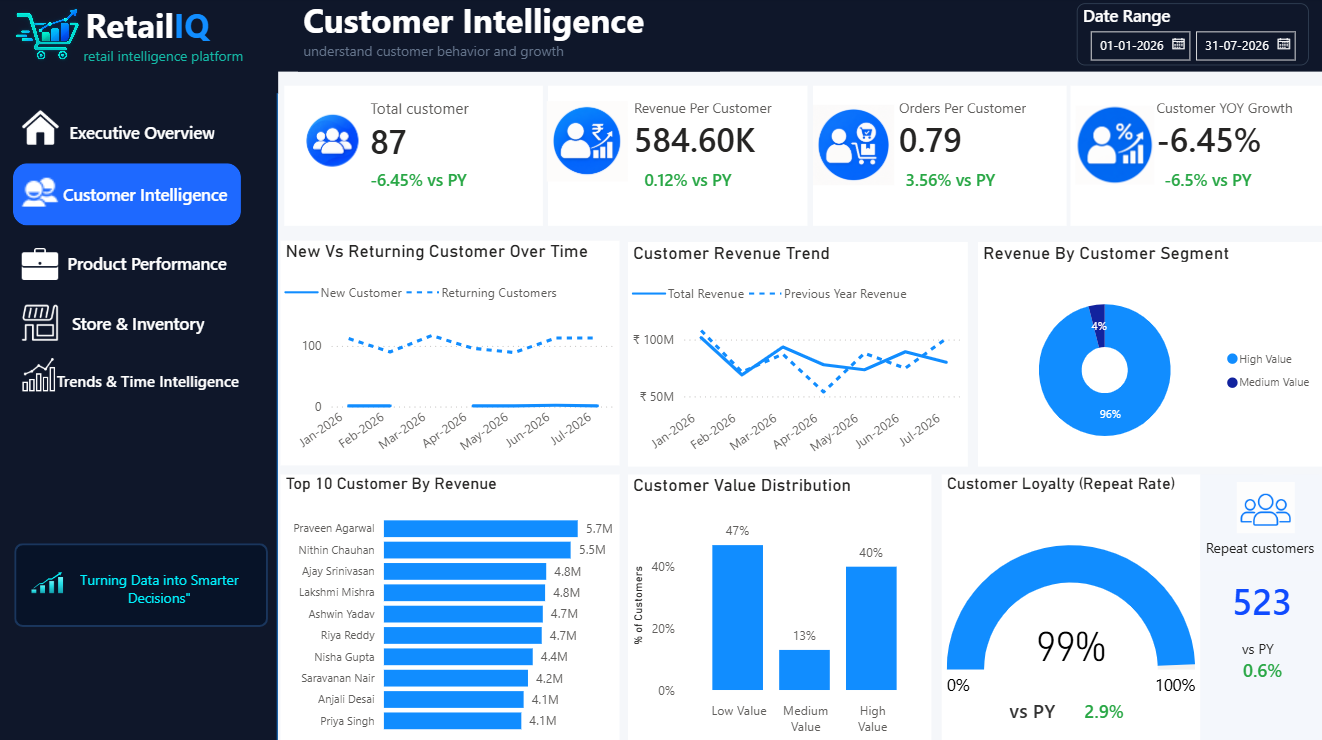

Layout of this report page (visuals, bound fields, positions):
{"tool":"powerbi","page":{"name":"Customer Intelligence","canvas":[1280,720],"ordinal":1},"visuals":[{"type":"shape","box":[0,0,270,720],"z":0},{"type":"shape","box":[270,0,1010,72],"z":1000},{"type":"textbox","box":[0,0,270,93],"z":2000},{"type":"image","box":[0,0,99,72],"z":3000},{"type":"textbox","box":[289.8,0,407.2,72.1],"z":4000},{"type":"slicer","title":"Date Range","fields":{"Values":["DateTable.Date"]},"box":[1040.6,6.1,224,60],"z":5000},{"type":"actionButton","box":[15,100,220,60],"z":6000},{"type":"image","box":[20,109,40,35],"z":7000},{"type":"actionButton","box":[14.7,161,220,60],"z":8000},{"type":"actionButton","box":[19.6,227,220,60],"z":9000},{"type":"actionButton","box":[19.6,285,220,60],"z":10000},{"type":"actionButton","box":[16,340,228,60],"z":11000},{"type":"image","box":[20,170,40,35],"z":12000},{"type":"image","box":[20,240,40,35],"z":13000},{"type":"image","box":[20,297,40,35],"z":14000},{"type":"image","box":[20,346,40,35],"z":15000},{"type":"shape","box":[15.7,527.2,244.9,80.8],"z":16000},{"type":"image","box":[22,529,50,75],"z":17000},{"type":"cardVisual","fields":{"Data":["RetailIQ_Measures.Registered customer"]},"box":[276,86,250,134.9],"z":18000},{"type":"image","box":[273,80,100,119],"z":19000},{"type":"cardVisual","fields":{"Data":["RetailIQ_Measures.Revenue Per Customer"]},"box":[531,86,250,135],"z":20000},{"type":"cardVisual","fields":{"Data":["RetailIQ_Measures.Orders Per Customer"]},"box":[787,86,245,135],"z":21000},{"type":"cardVisual","fields":{"Data":["RetailIQ_Measures.Customer YOY Growth"]},"box":[1035,86,245,135],"z":22000},{"type":"image","box":[530,80,78,119],"z":23000},{"type":"image","box":[786.7,83.6,78,119],"z":24000},{"type":"image","box":[1040.1,83.6,76,119],"z":25000},{"type":"lineChart","title":"New Vs Returning Customer Over Time ","fields":{"Category":["DateTable.Year Month"],"Y":["RetailIQ_Measures.New Customer","RetailIQ_Measures.Returning Customers"]},"box":[273,235,327,217],"z":26000},{"type":"lineChart","title":"Customer Revenue Trend","fields":{"Category":["DateTable.Year Month"],"Y":["RetailIQ_Measures.Total Revenue","RetailIQ_Measures.Previous Year Revenue"]},"box":[608,236,328,217],"z":27000},{"type":"donutChart","title":"Revenue By Customer Segment","fields":{"Category":["Customer segment.Customer Segmentation"],"Y":["RetailIQ_Measures.Segment Revenue"]},"box":[945.8,236.5,334,217],"z":28000},{"type":"barChart","title":"Top 10 Customer By Revenue","fields":{"Category":["retailiq customer.name"],"Y":["RetailIQ_Measures.Customer Revenue Test"]},"box":[273,461,327,259],"z":29000},{"type":"clusteredColumnChart","title":"Customer Value Distribution","fields":{"Category":["customers_11.segmentation"],"Y":["RetailIQ_Measures.Customer Value Distribution"]},"box":[608,461,293,259],"z":30000},{"type":"gauge","title":"Customer Loyalty (Repeat Rate)","fields":{"Y":["RetailIQ_Measures.Customer Repeat Rate"]},"box":[910.9,460.9,249.7,259.4],"z":31000},{"type":"cardVisual","fields":{"Data":["RetailIQ_Measures.Customer Repeat Rate YOY"]},"box":[1031.5,656.3,82,63.9],"z":32000},{"type":"cardVisual","fields":{"Data":["RetailIQ_Measures.vs py"]},"box":[959.1,656.3,82,63.9],"z":33000},{"type":"shape","box":[1160.6,460.9,119.4,259.4],"z":34000},{"type":"image","box":[1193,468,61,56],"z":35000},{"type":"textbox","box":[1160,517,120,36],"z":36000},{"type":"cardVisual","fields":{"Data":["RetailIQ_Measures.Returning Customers"]},"box":[1160.6,550.1,119.4,67.6],"z":37000},{"type":"textbox","box":[1195,615,50,30],"z":38000},{"type":"cardVisual","fields":{"Data":["RetailIQ_Measures.Returning Customer YOY"]},"box":[1172.7,617.7,107.4,60.3],"z":39000}]}

Visuals, with their boxes in screenshot pixels (x1, y1, x2, y2), scaled from the page's 1280x720 canvas onto the 1322x740 screenshot:
shape: <region>0, 0, 279, 739</region>
shape: <region>279, 0, 1321, 74</region>
textbox: <region>0, 0, 279, 96</region>
image: <region>0, 0, 102, 74</region>
textbox: <region>299, 0, 720, 74</region>
"Date Range" slicer: <region>1075, 6, 1306, 68</region>
actionButton: <region>15, 103, 243, 164</region>
image: <region>21, 112, 62, 148</region>
actionButton: <region>15, 165, 242, 227</region>
actionButton: <region>20, 233, 247, 295</region>
actionButton: <region>20, 293, 247, 355</region>
actionButton: <region>17, 349, 252, 411</region>
image: <region>21, 175, 62, 211</region>
image: <region>21, 247, 62, 283</region>
image: <region>21, 305, 62, 341</region>
image: <region>21, 356, 62, 392</region>
shape: <region>16, 542, 269, 625</region>
image: <region>23, 544, 74, 621</region>
cardVisual - RetailIQ_Measures.Registered customer: <region>285, 88, 543, 227</region>
image: <region>282, 82, 385, 205</region>
cardVisual - RetailIQ_Measures.Revenue Per Customer: <region>548, 88, 807, 227</region>
cardVisual - RetailIQ_Measures.Orders Per Customer: <region>813, 88, 1066, 227</region>
cardVisual - RetailIQ_Measures.Customer YOY Growth: <region>1069, 88, 1321, 227</region>
image: <region>547, 82, 628, 205</region>
image: <region>813, 86, 893, 208</region>
image: <region>1074, 86, 1153, 208</region>
"New Vs Returning Customer Over Time " lineChart: <region>282, 242, 620, 465</region>
"Customer Revenue Trend" lineChart: <region>628, 243, 967, 466</region>
"Revenue By Customer Segment" donutChart: <region>977, 243, 1321, 466</region>
"Top 10 Customer By Revenue" barChart: <region>282, 474, 620, 739</region>
"Customer Value Distribution" clusteredColumnChart: <region>628, 474, 931, 739</region>
"Customer Loyalty (Repeat Rate)" gauge: <region>941, 474, 1199, 739</region>
cardVisual - RetailIQ_Measures.Customer Repeat Rate YOY: <region>1065, 675, 1150, 739</region>
cardVisual - RetailIQ_Measures.vs py: <region>991, 675, 1075, 739</region>
shape: <region>1199, 474, 1321, 739</region>
image: <region>1232, 481, 1295, 539</region>
textbox: <region>1198, 531, 1321, 568</region>
cardVisual - RetailIQ_Measures.Returning Customers: <region>1199, 565, 1321, 635</region>
textbox: <region>1234, 632, 1286, 663</region>
cardVisual - RetailIQ_Measures.Returning Customer YOY: <region>1211, 635, 1321, 697</region>
